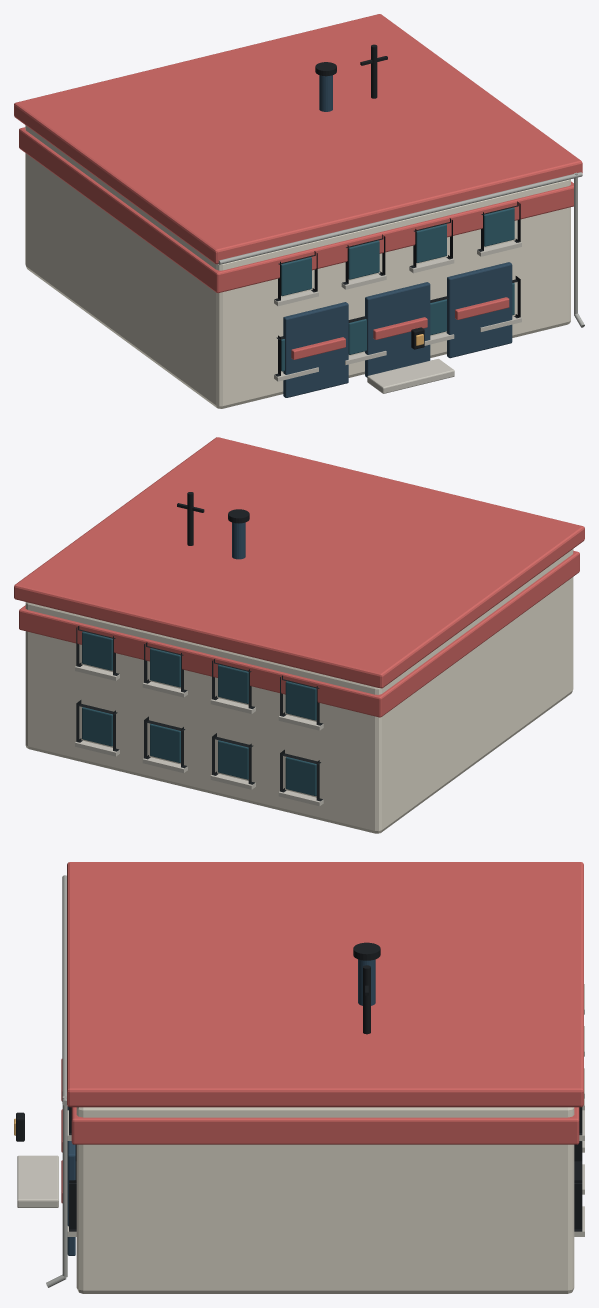
The model's file is CIV_FIRE_2x2_001.glb.
3 views of the same model, one above another, from view 1: azimuth 30°, elevation 25°; view 2: azimuth 150°, elevation 25°; view 3: azimuth 270°, elevation 25° (orthographic). The views are drawn at different scales.
Parts seen in each view (by area): view 1: CIV_FIRE_2x2_001_Visual; view 2: CIV_FIRE_2x2_001_Visual; view 3: CIV_FIRE_2x2_001_Visual.
Boxes of the visible parts, left/top/right/bottom form: CIV_FIRE_2x2_001_Visual: left=14, top=14, right=584, bottom=408; CIV_FIRE_2x2_001_Visual: left=14, top=437, right=584, bottom=833; CIV_FIRE_2x2_001_Visual: left=14, top=862, right=584, bottom=1293.
Size of what is drawn, in the model's own units: 3.37 by 1.9 by 3.56.
